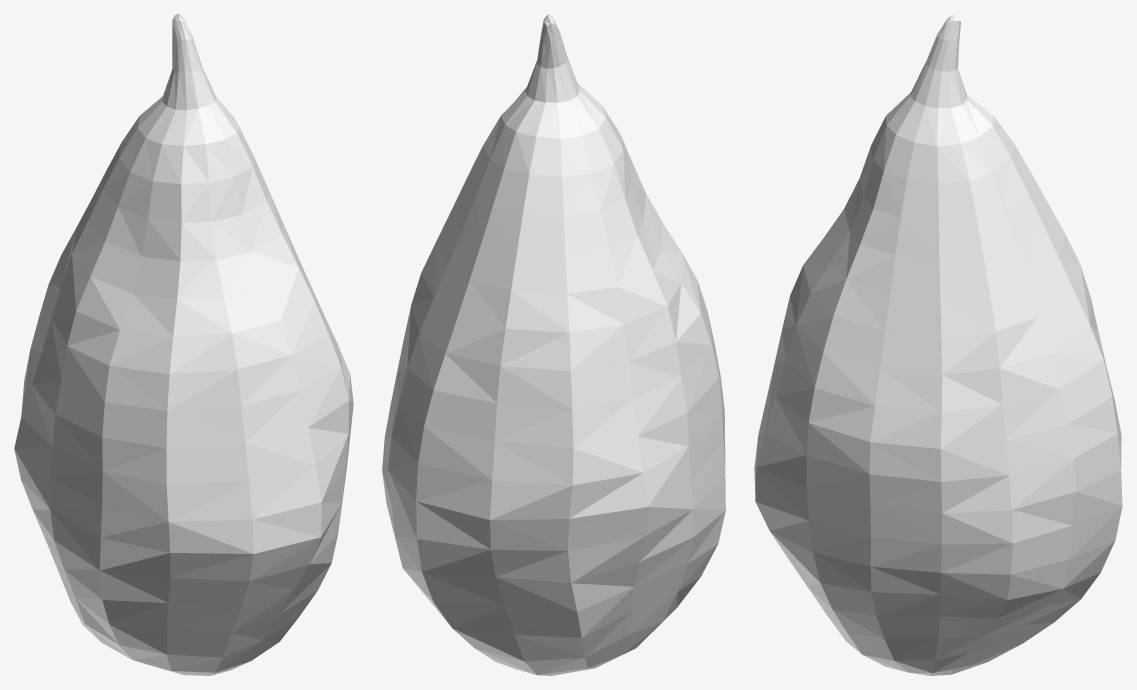
The model's file is texture avocadoobj.OBJ.
The picture shows the model from 3 angles, left to right: view 1: azimuth 30°, elevation 25°; view 2: azimuth 150°, elevation 25°; view 3: azimuth 270°, elevation 25°; orthographic projection.
Parts seen in each view (by area): view 1: Group65055; view 2: Group65055; view 3: Group65055.
Boxes of the visible parts, x1,y1,x2,y2 form: Group65055: (14,14,353,675); Group65055: (382,14,725,675); Group65055: (754,14,1122,675).
Bounding box in the file's own units: 4.52 × 9.87 × 5.08.
1 material, 1 textured.
